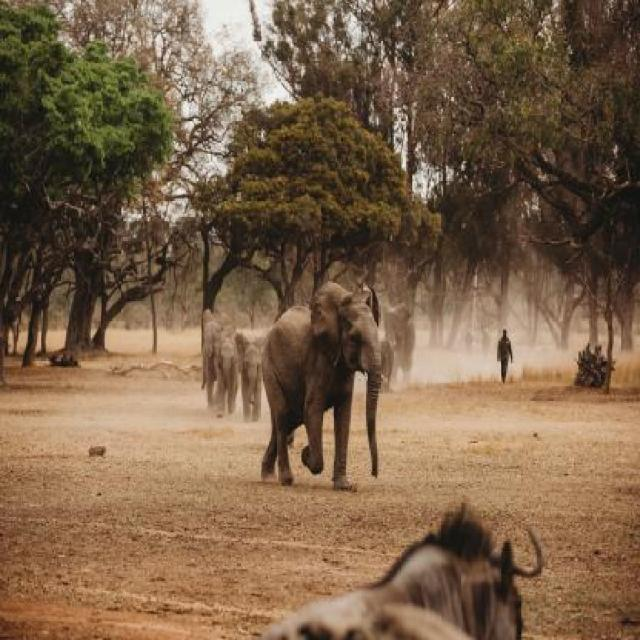Elephant: (258, 278, 390, 494), (380, 290, 422, 388), (197, 308, 234, 415), (235, 325, 271, 424), (213, 325, 242, 423)
